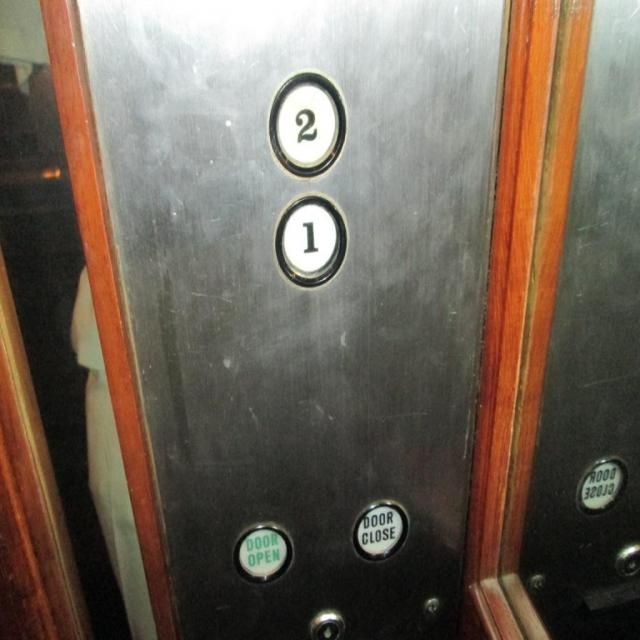1: (271, 191, 348, 290)
2: (265, 70, 349, 181)
keyhole: (306, 607, 350, 639), (614, 542, 640, 578)
text: (349, 498, 412, 562), (232, 520, 296, 581)
unknown: (574, 452, 628, 518)
